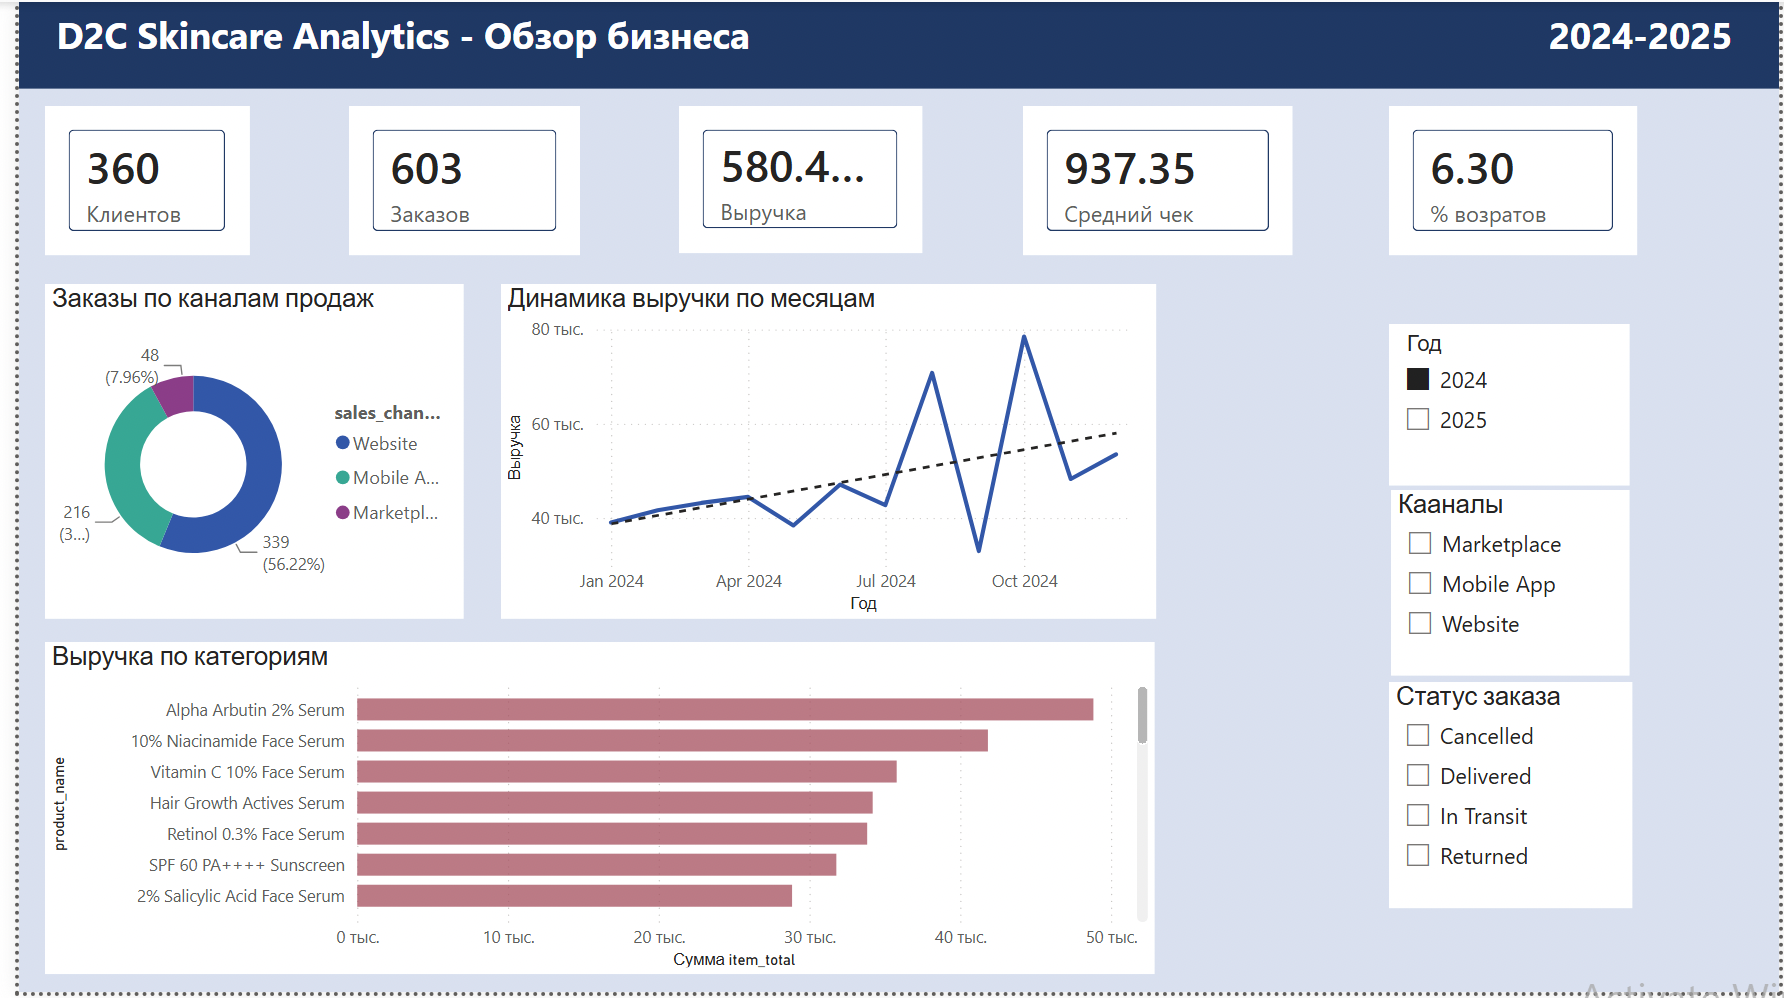

The page's visual inventory and layout, read from the dashboard file:
{"tool":"powerbi","page":{"name":"Обзор бизнеса","canvas":[1280,720],"ordinal":0},"visuals":[{"type":"cardVisual","title":"Общая выручка","fields":{"Data":["Orders.Выручка"]},"box":[479.8,75.3,176.9,106.8],"z":0},{"type":"actionButton","box":[0,0,100,40],"z":1000},{"type":"cardVisual","fields":{"Data":["Orders.Заказов"]},"box":[239.9,75.3,168.1,108.6],"z":2000},{"type":"cardVisual","fields":{"Data":["Orders.Клиентов"]},"box":[19.3,75.3,148.8,108.6],"z":3000},{"type":"cardVisual","fields":{"Data":["Orders.СреднийЧек"]},"box":[730.2,75.3,196.1,108.6],"z":4000},{"type":"cardVisual","title":"% возвратов","fields":{"Data":["Orders.ПроцентВозвратов"]},"box":[996.3,75.3,180.4,108.6],"z":5000},{"type":"lineChart","title":"Динамика выручки по месяцам","fields":{"Y":["Orders.Выручка"],"Category":["Orders.order_date.Изменение.Иерархия дат.Год","Orders.order_date.Изменение.Иерархия дат.Месяц"]},"box":[350.2,204.9,476.3,243.4],"z":6000},{"type":"clusteredBarChart","title":"Выручка по категориям","fields":{"Category":["Products.product_name"],"Y":["Sum(Order_Items.item_total)"]},"box":[19.3,465.8,807.2,241.6],"z":7000},{"type":"donutChart","title":"Заказы по каналам продаж","fields":{"Y":["Orders.Заказов"],"Category":["Orders.sales_channel"]},"box":[19.3,204.9,304.7,243.4],"z":8000},{"type":"textbox","box":[0,0,1279.8,63.1],"z":9000},{"type":"slicer","fields":{"Values":["Orders.order_date.Изменение.Иерархия дат.Год"]},"box":[996.6,234.6,175.1,117.3],"z":9000,"group":"g1"},{"type":"group","id":"g1","title":"Группа 1","box":[996.3,234.6,176.9,425.5],"z":10000},{"type":"slicer","title":"Статус заказа","fields":{"Values":["Orders.order_status"]},"box":[996.3,495.6,176.9,164.6],"z":10000,"group":"g1"},{"type":"slicer","title":"Кааналы","fields":{"Values":["Orders.sales_channel"]},"box":[998.1,355.5,173.4,134.8],"z":11000,"group":"g1"}]}

Visuals, with their boxes in screenshot pixels (x1, y1, x2, y2), scaled from the page's 1280x720 canvas onto the 1784x998 screenshot:
"Общая выручка" cardVisual: bbox=(669, 104, 915, 252)
actionButton: bbox=(0, 0, 139, 55)
cardVisual - Orders.Заказов: bbox=(334, 104, 569, 255)
cardVisual - Orders.Клиентов: bbox=(27, 104, 234, 255)
cardVisual - Orders.СреднийЧек: bbox=(1018, 104, 1291, 255)
"% возвратов" cardVisual: bbox=(1389, 104, 1640, 255)
"Динамика выручки по месяцам" lineChart: bbox=(488, 284, 1152, 621)
"Выручка по категориям" clusteredBarChart: bbox=(27, 646, 1152, 981)
"Заказы по каналам продаж" donutChart: bbox=(27, 284, 452, 621)
textbox: bbox=(0, 0, 1783, 87)
slicer - Orders.order_date.Изменение.Иерархия дат.Год: bbox=(1389, 325, 1633, 488)
"Группа 1" group: bbox=(1389, 325, 1635, 915)
"Статус заказа" slicer: bbox=(1389, 687, 1635, 915)
"Кааналы" slicer: bbox=(1391, 493, 1633, 680)
